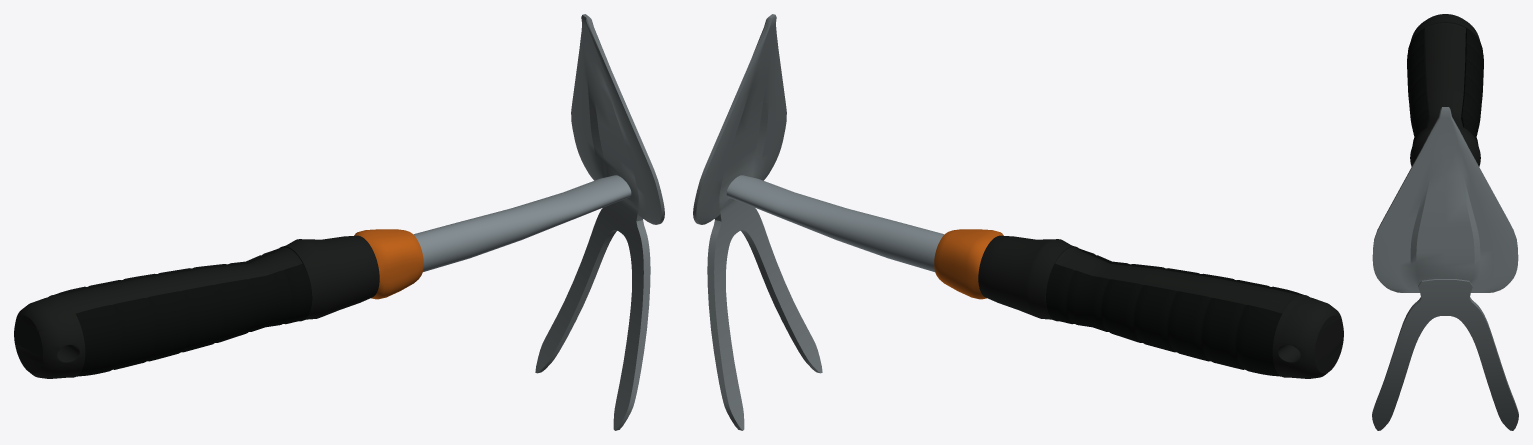
3 renders of one model, left to right at view 1: azimuth 30°, elevation 25°; view 2: azimuth 150°, elevation 25°; view 3: azimuth 270°, elevation 25°, orthographic. The views are drawn at different scales.
Visible parts, largest first — view 1: part_005_Head_protective_skin, part_001_Rigid_handle_with_hanging_eye, part_004_Left_soft_grip_panel, part_000_Steel_head_shank_and_tang, part_003_Ochre_transition_collar, part_002_Right_soft_grip_panel; view 2: part_005_Head_protective_skin, part_001_Rigid_handle_with_hanging_eye, part_002_Right_soft_grip_panel, part_000_Steel_head_shank_and_tang, part_003_Ochre_transition_collar, part_004_Left_soft_grip_panel; view 3: part_005_Head_protective_skin, part_001_Rigid_handle_with_hanging_eye, part_002_Right_soft_grip_panel, part_004_Left_soft_grip_panel.
Part boxes in pixels (x1,y1,x2,y2): part_005_Head_protective_skin: [535, 14, 664, 430]; part_001_Rigid_handle_with_hanging_eye: [14, 235, 379, 378]; part_004_Left_soft_grip_panel: [76, 263, 311, 376]; part_000_Steel_head_shank_and_tang: [413, 175, 631, 271]; part_003_Ochre_transition_collar: [354, 229, 423, 299]; part_002_Right_soft_grip_panel: [54, 247, 281, 295]; part_005_Head_protective_skin: [693, 14, 822, 430]; part_001_Rigid_handle_with_hanging_eye: [978, 235, 1343, 378]; part_002_Right_soft_grip_panel: [1046, 263, 1281, 376]; part_000_Steel_head_shank_and_tang: [726, 175, 944, 271]; part_003_Ochre_transition_collar: [934, 229, 1003, 299]; part_004_Left_soft_grip_panel: [1076, 247, 1303, 295]; part_005_Head_protective_skin: [1372, 107, 1518, 430]; part_001_Rigid_handle_with_hanging_eye: [1408, 14, 1482, 166]; part_002_Right_soft_grip_panel: [1461, 28, 1483, 144]; part_004_Left_soft_grip_panel: [1407, 28, 1429, 144].
Bounding box in the file's own units: 0.2503 × 0.1525 × 0.0622.
